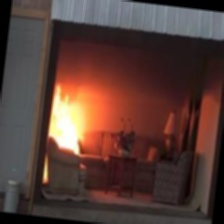fire: (40, 74, 95, 158)
